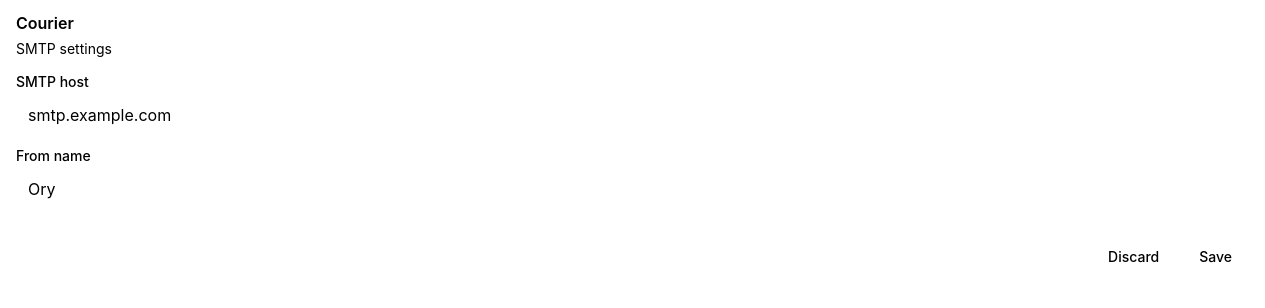
Scenario: SettingsForm (FE-03) › maps inline errors from the REAL backend 422 {fields:[...]} body (end-to-end parse path)
This screenshot has width=1265, height=308.
Step 1. Type "Z" into the field labelled "From name" → (632, 189), box top-left (16, 171), bottom-right (1248, 207)
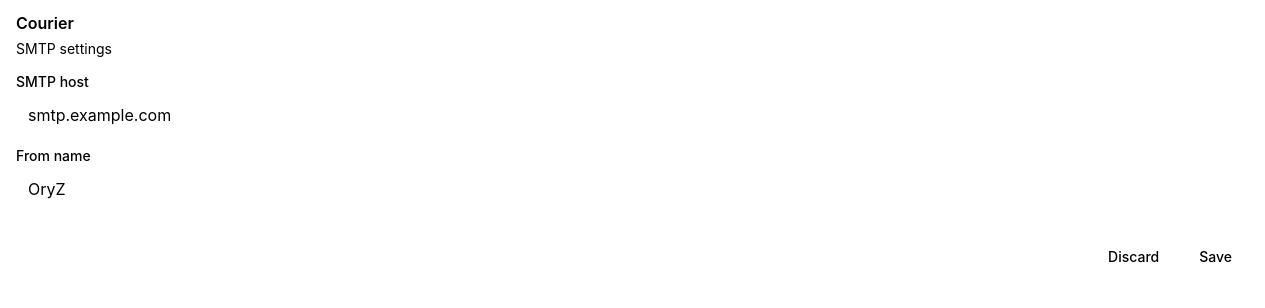
Step 2. Click the button "Save" → (1216, 257), box top-left (1183, 239), bottom-right (1248, 275)
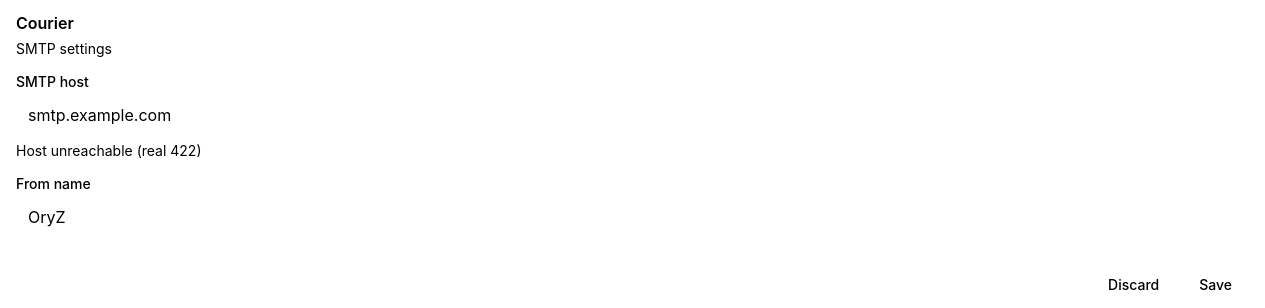
Result: the text "Host unreachable (real 422)" is shown at top-left (16, 142), bottom-right (202, 159)
